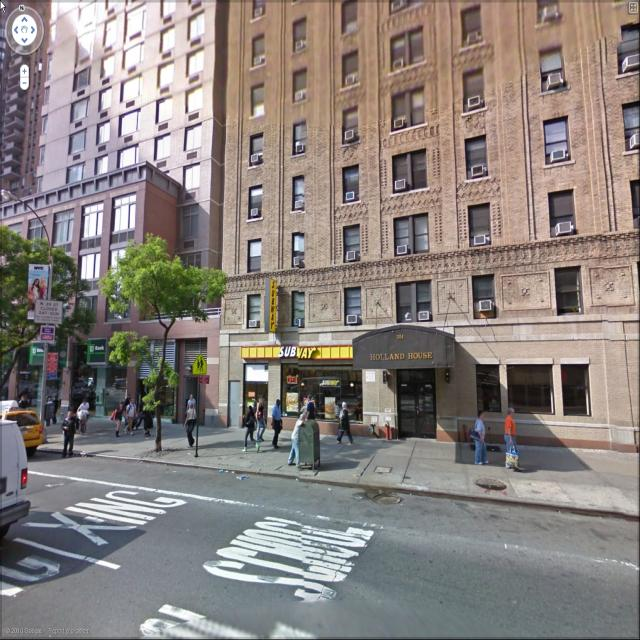b_1: (225, 10, 631, 373), (2, 1, 242, 284)
b_2: (0, 233, 222, 448)
